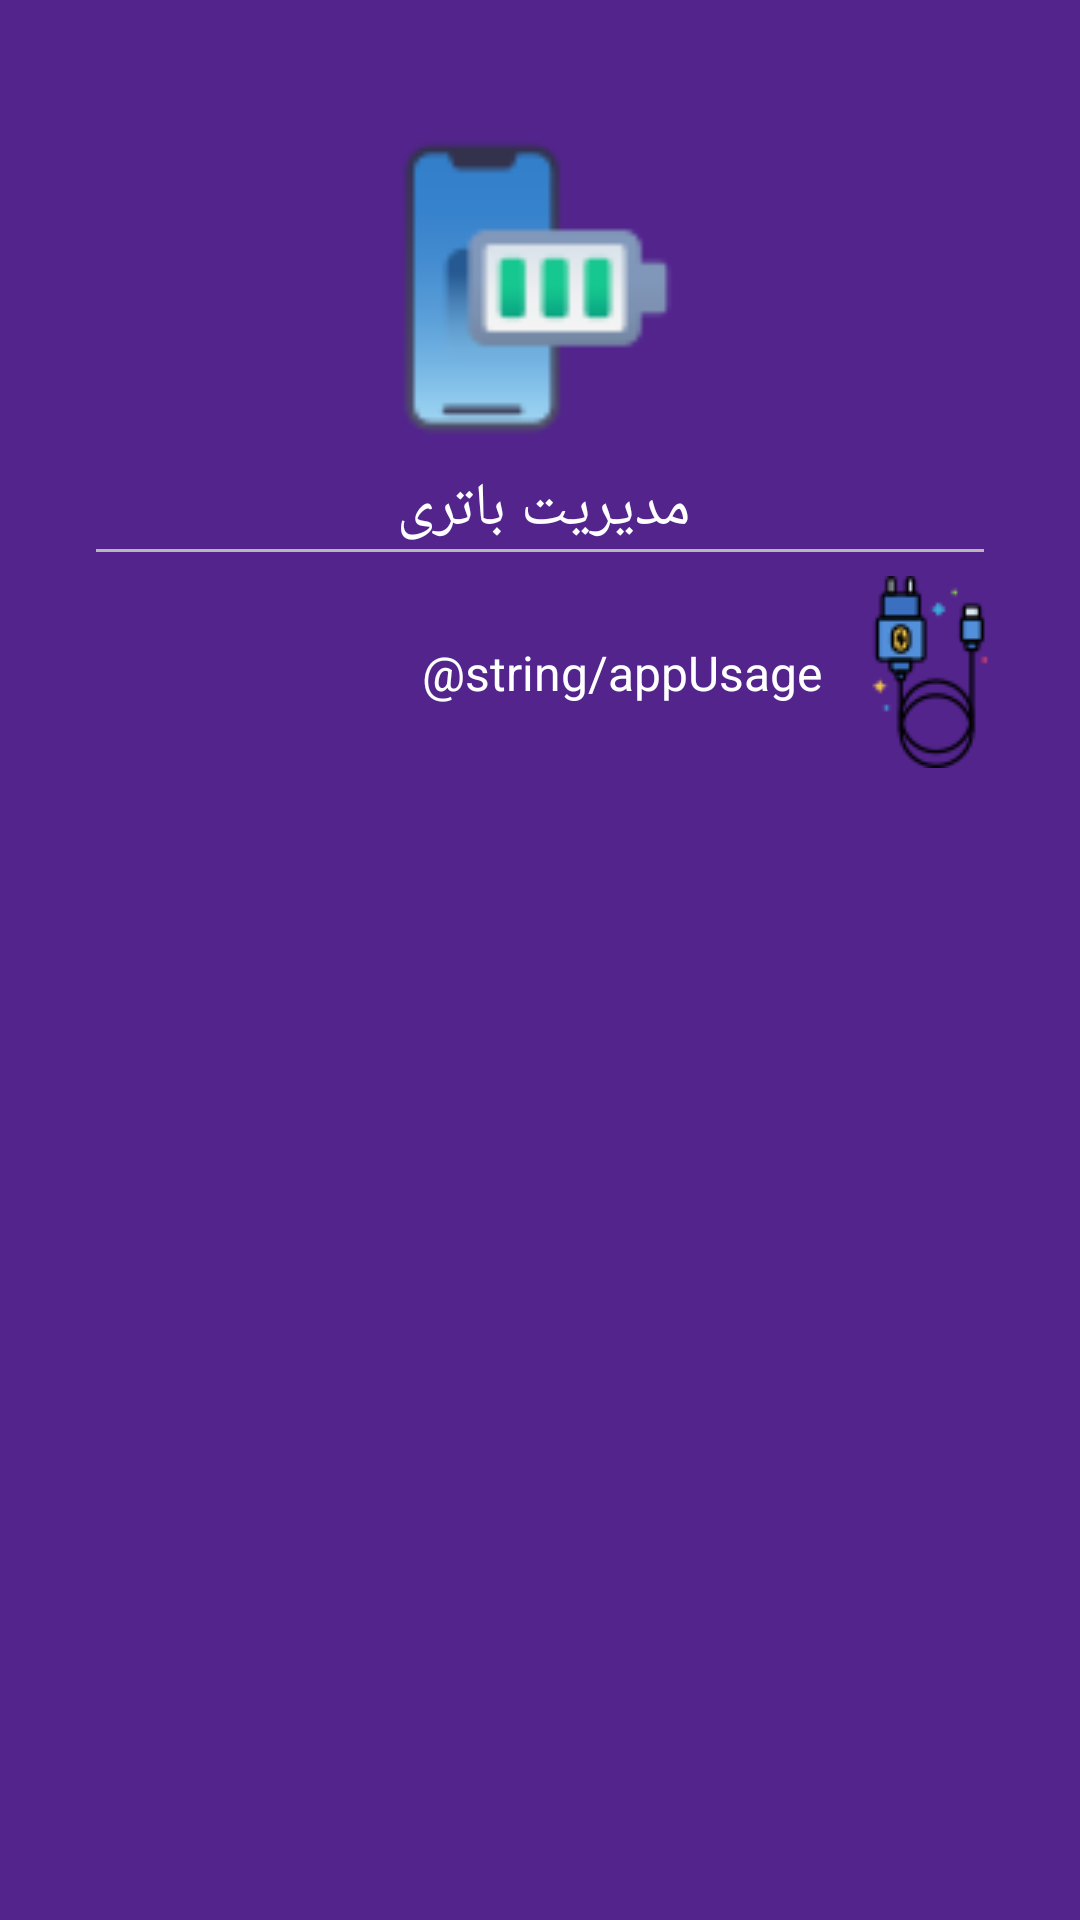

Locate icon controls on the screen. Image size 1080 × 1920, boxes as (x1, y1, x2, y2).
charger: (872, 576, 988, 768)
